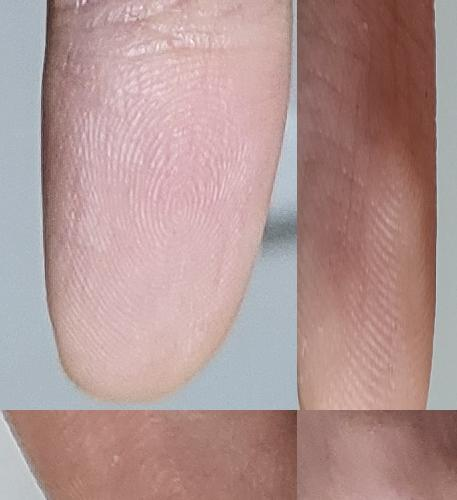Fingerprints: (41, 0, 290, 404), (297, 1, 437, 410), (0, 410, 297, 500), (297, 410, 457, 500)
